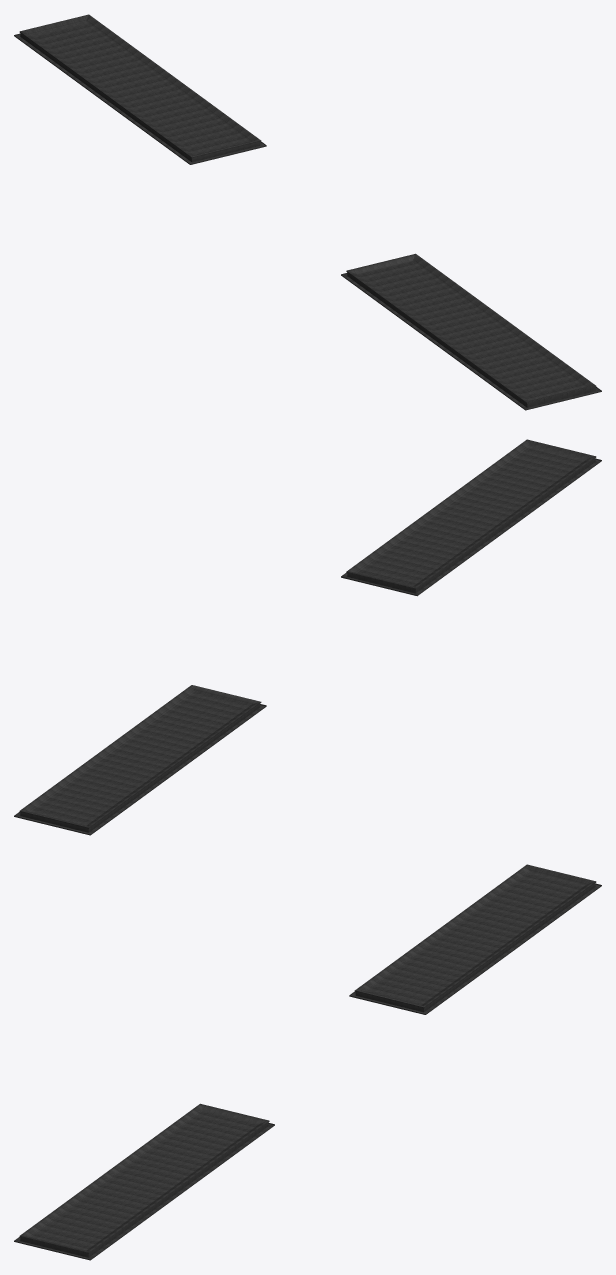
Rendered from PenShuiChi.FBX.
The picture shows the model from 3 angles, top to bottom: view 1: azimuth 30°, elevation 25°; view 2: azimuth 150°, elevation 25°; view 3: azimuth 330°, elevation 25°; orthographic projection.
Parts seen in each view (by area): view 1: PenShuiChi_a, PenShuiChi_b; view 2: PenShuiChi_a, PenShuiChi_b; view 3: PenShuiChi_a, PenShuiChi_b.
Part boxes in pixels (x1,y1,x2,y2): PenShuiChi_a: (341,253,601,410); PenShuiChi_b: (14,14,266,164); PenShuiChi_a: (341,439,601,596); PenShuiChi_b: (14,685,266,835); PenShuiChi_a: (14,1103,274,1260); PenShuiChi_b: (349,864,601,1014).
Bounding box in the file's own units: 531 × 35.65 × 6151.
